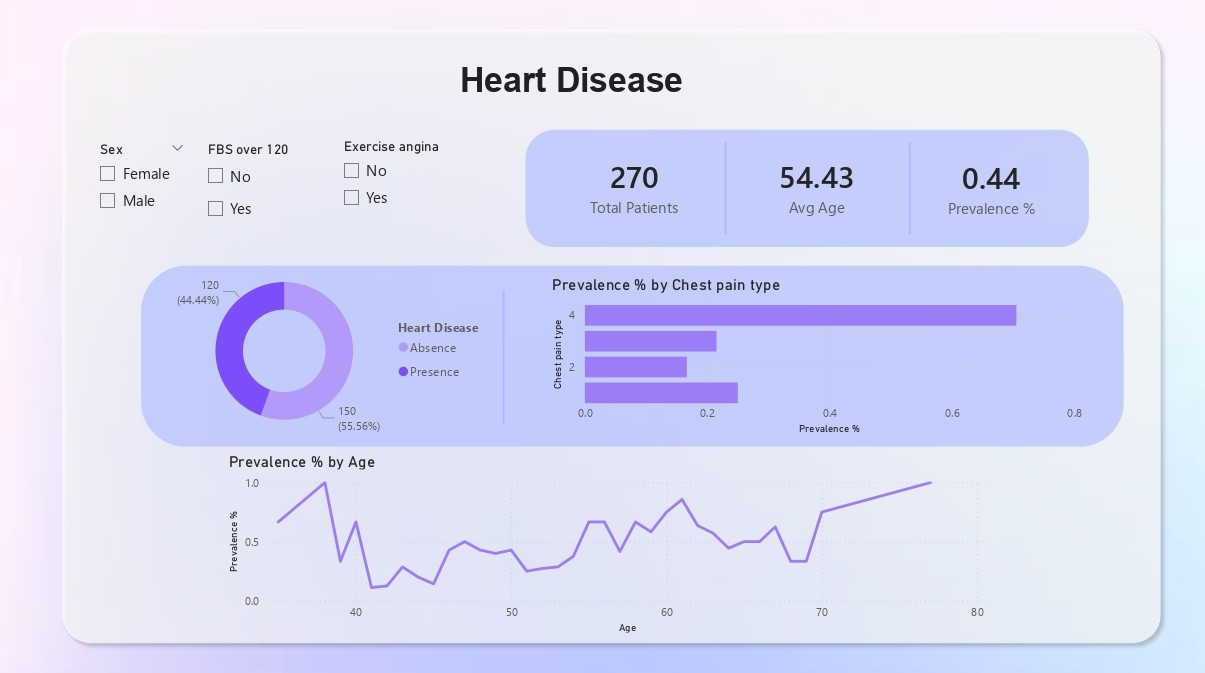

The page's visual inventory and layout, read from the dashboard file:
{"tool":"powerbi","page":{"name":"Page 1","canvas":[1280,720],"ordinal":0},"visuals":[{"type":"shape","box":[56.7,23.3,1190,673.3],"z":0},{"type":"shape","box":[150,285,1048.3,193.3],"z":1000},{"type":"donutChart","fields":{"Category":["Heart_Disease_Prediction.Heart Disease"],"Y":["Heart_Disease_Prediction.Total Patients"]},"box":[176.7,261.7,355,228.3],"z":2000},{"type":"clusteredBarChart","fields":{"Y":["Heart_Disease_Prediction.Prevalence %"],"Category":["Heart_Disease_Prediction.Chest pain type"]},"box":[583.3,295,575,175],"z":3000},{"type":"lineChart","fields":{"Category":["Heart_Disease_Prediction.Age"],"Y":["Heart_Disease_Prediction.Prevalence %"]},"box":[238.3,483.3,818.3,198.3],"z":4000},{"type":"slicer","fields":{"Values":["Heart_Disease_Prediction.Sex"]},"box":[93.3,148.3,115,93.9],"z":5000},{"type":"slicer","fields":{"Values":["Heart_Disease_Prediction.Exercise angina"]},"box":[353.9,145,165.2,97.2],"z":6000},{"type":"slicer","fields":{"Values":["Heart_Disease_Prediction.FBS over 120"]},"box":[208.2,148.3,145.7,106.9],"z":7000},{"type":"textbox","box":[485.1,62.5,299.6,61.5],"z":9000},{"type":"shape","box":[560.2,140.8,600.9,125.2],"z":10000},{"type":"cardVisual","fields":{"Data":["Heart_Disease_Prediction.Prevalence %"]},"box":[953.1,117.5,207.3,166.8],"z":11000},{"type":"cardVisual","fields":{"Data":["Heart_Disease_Prediction.Avg Age"]},"box":[773.3,119.1,195.9,165.2],"z":11250},{"type":"cardVisual","fields":{"Data":["Heart_Disease_Prediction.Total Patients"]},"box":[580.6,119.1,192.7,165.2],"z":11500},{"type":"shape","box":[721.7,153.3,103.3,98.3],"z":11501},{"type":"shape","box":[918.3,153.3,103.3,98.3],"z":11502},{"type":"shape","box":[485,311.7,103.3,143.3],"z":11503}]}

Visuals, with their boxes in screenshot pixels (x1, y1, x2, y2), scaled from the page's 1280x720 canvas onto the 1205x673 screenshot:
shape: detection(53, 22, 1174, 651)
shape: detection(141, 266, 1128, 447)
donutChart - Heart_Disease_Prediction.Heart Disease x Heart_Disease_Prediction.Total Patients: detection(166, 245, 501, 458)
clusteredBarChart - Heart_Disease_Prediction.Prevalence % x Heart_Disease_Prediction.Chest pain type: detection(549, 276, 1090, 439)
lineChart - Heart_Disease_Prediction.Age x Heart_Disease_Prediction.Prevalence %: detection(224, 452, 995, 637)
slicer - Heart_Disease_Prediction.Sex: detection(88, 139, 196, 226)
slicer - Heart_Disease_Prediction.Exercise angina: detection(333, 136, 489, 226)
slicer - Heart_Disease_Prediction.FBS over 120: detection(196, 139, 333, 239)
textbox: detection(457, 58, 739, 116)
shape: detection(527, 132, 1093, 249)
cardVisual - Heart_Disease_Prediction.Prevalence %: detection(897, 110, 1092, 266)
cardVisual - Heart_Disease_Prediction.Avg Age: detection(728, 111, 912, 266)
cardVisual - Heart_Disease_Prediction.Total Patients: detection(547, 111, 728, 266)
shape: detection(679, 143, 777, 235)
shape: detection(864, 143, 962, 235)
shape: detection(457, 291, 554, 425)
